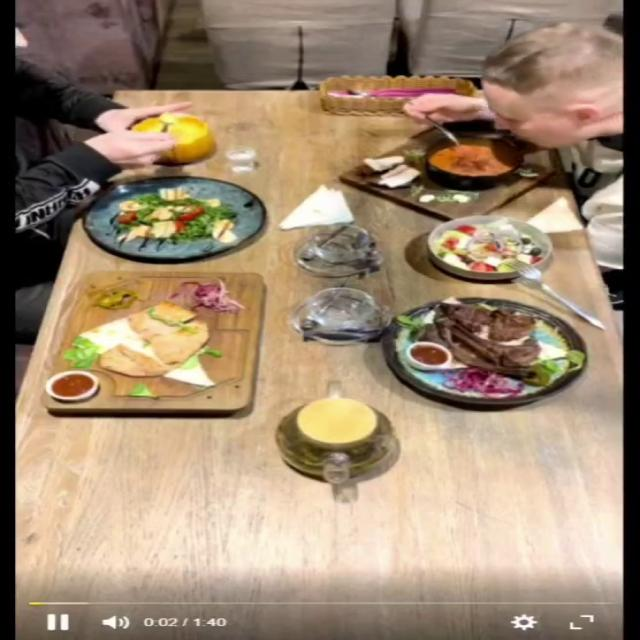alcohol: (218, 128, 270, 185)
meat: (379, 296, 589, 405)
salat: (81, 176, 267, 261), (426, 213, 554, 279)
soup: (338, 125, 560, 220), (129, 114, 214, 164)
tea: (273, 395, 397, 480)
